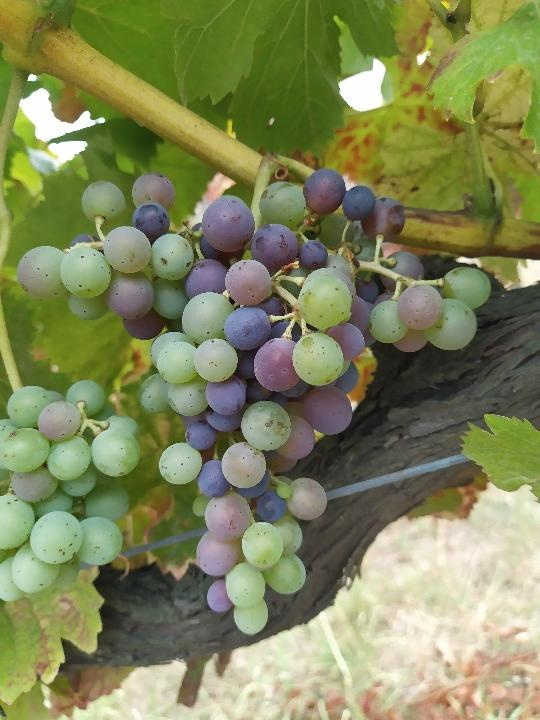grape: (12, 166, 496, 638)
